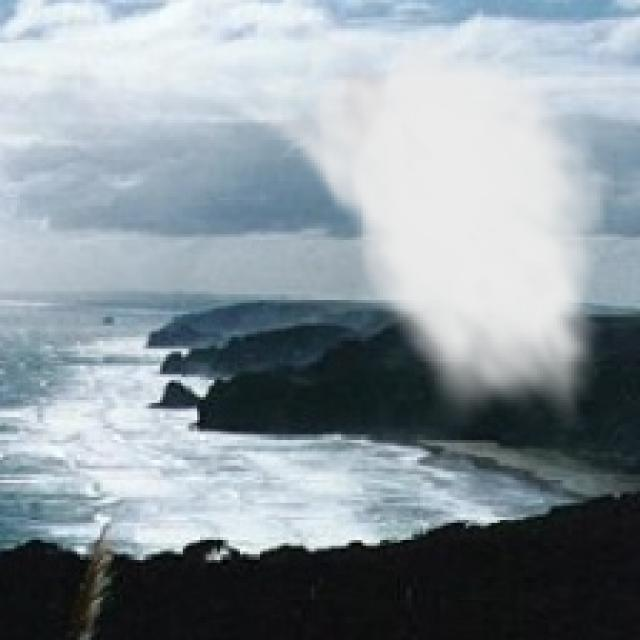Smoke: (237, 17, 617, 432)
